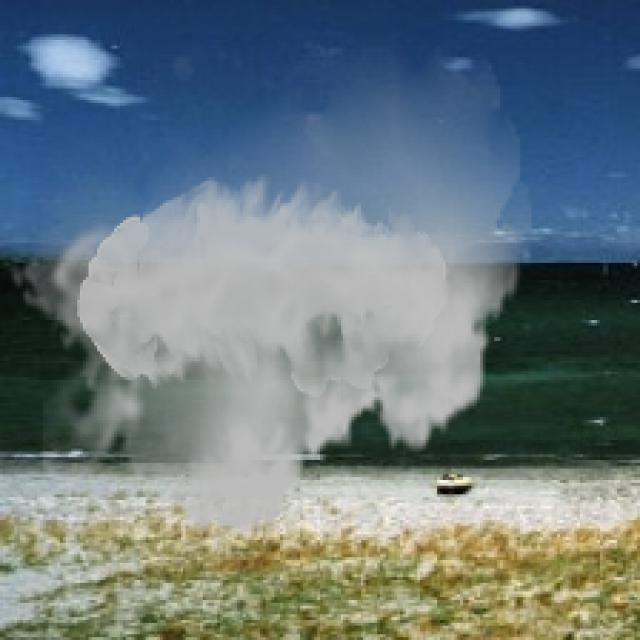smoke: (9, 29, 532, 554)
